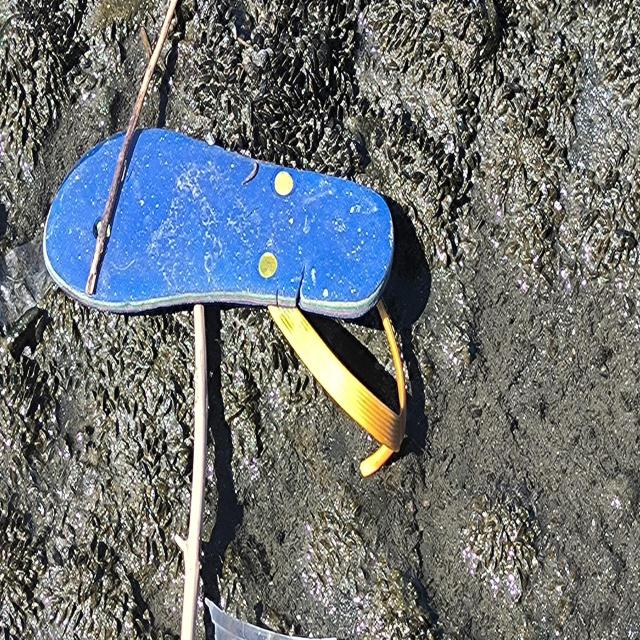rubber_waste: (43, 129, 395, 321)
